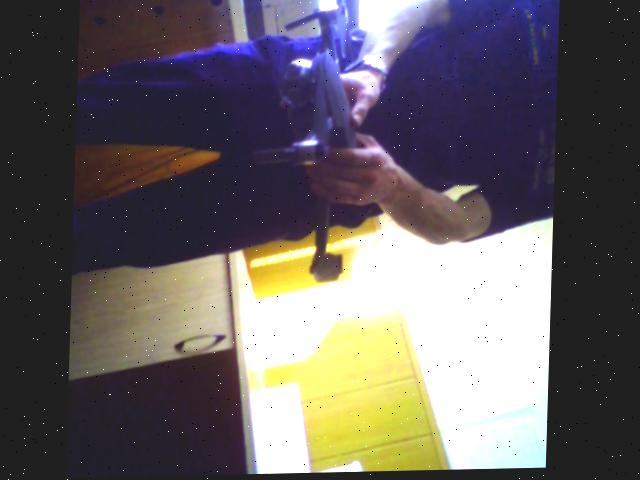drone: (259, 0, 385, 291)
